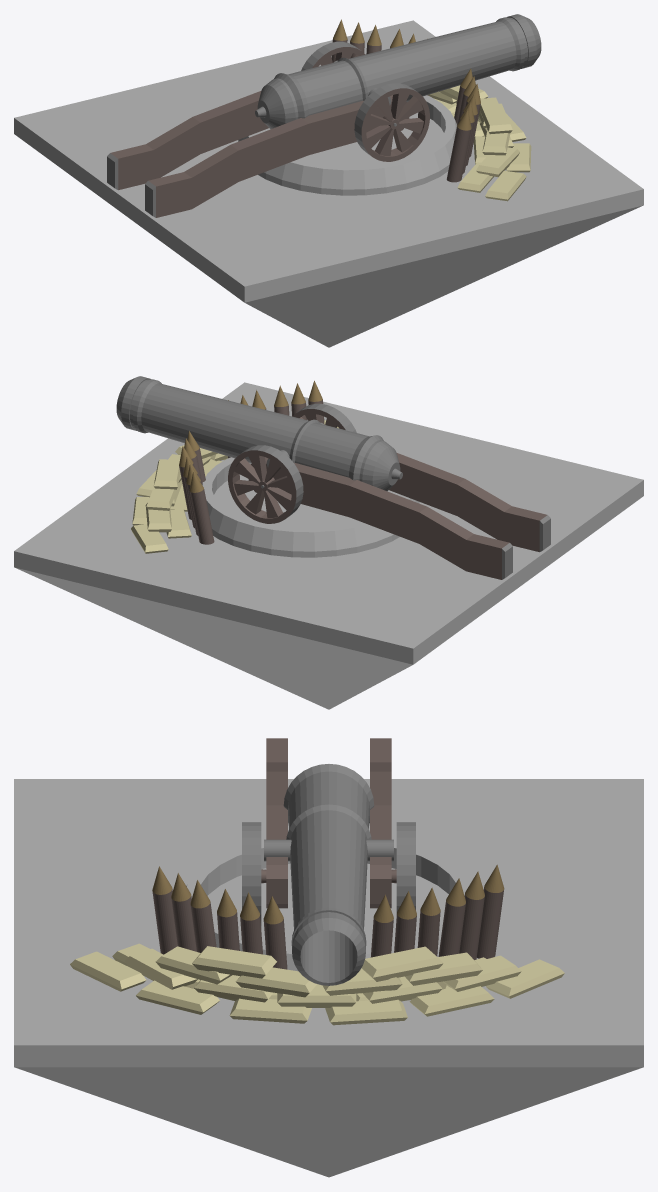
File: Building Cannon T2.fbx
3 renders of one model, top to bottom at view 1: azimuth 30°, elevation 25°; view 2: azimuth 150°, elevation 25°; view 3: azimuth 270°, elevation 25°, orthographic. The views are drawn at different scales.
Visible parts, largest first — view 1: Cannon T2; view 2: Cannon T2; view 3: Cannon T2.
Part boxes in pixels (box(x1,y1,x2,y2)): Cannon T2: box(14, 14, 643, 347); Cannon T2: box(14, 376, 643, 709); Cannon T2: box(14, 738, 643, 1177).
Size of the model in its own units: 1610 by 1089 by 1599.
